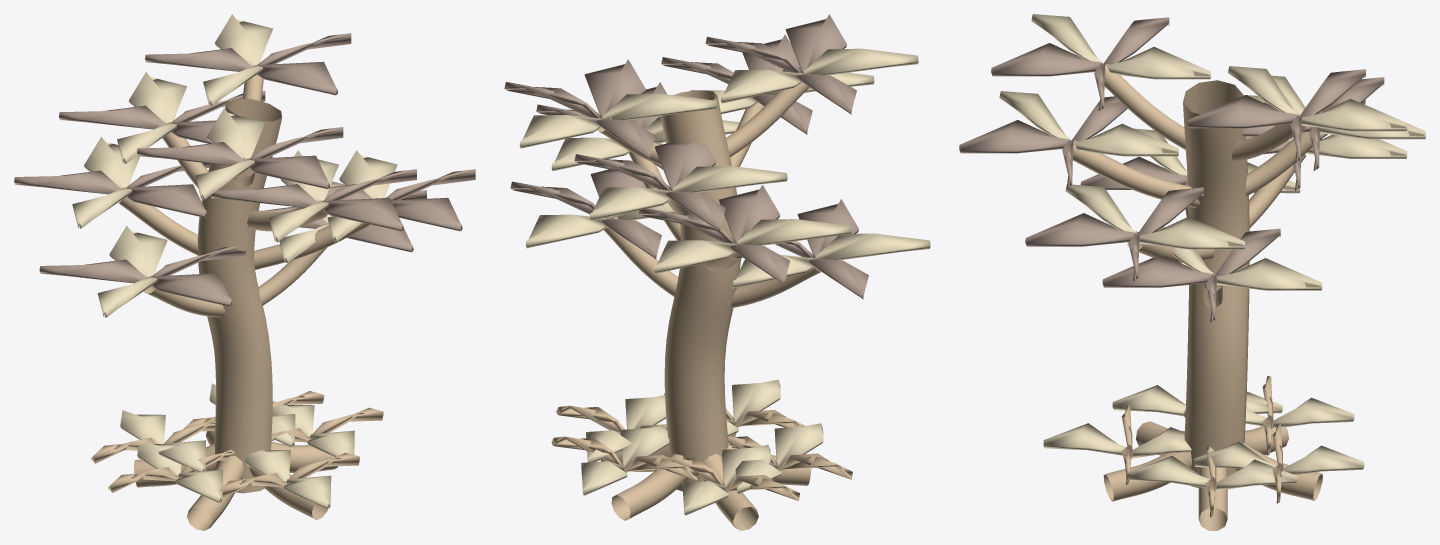
File: bio_canopy_tree_15_near.glb
3 views of the same model, side by side, from view 1: azimuth 30°, elevation 25°; view 2: azimuth 150°, elevation 25°; view 3: azimuth 270°, elevation 25° (orthographic). The views are drawn at different scales.
Visible parts, largest first — view 1: Buttressed trunk, Broad canopy leaf.035, Broad canopy leaf.015, Broad canopy leaf.010, Broad canopy leaf.020, Broad canopy leaf.005, Broad canopy leaf.030, Broad canopy leaf.021, Broad canopy leaf.016, Broad canopy leaf.036, Broad canopy leaf.025, Broad canopy leaf.031 (+15 smaller); view 2: Buttressed trunk, Broad canopy leaf.015, Broad canopy leaf.035, Broad canopy leaf.005, Broad canopy leaf.030, Broad canopy leaf.006, Broad canopy leaf.031, Broad canopy leaf.016, Broad canopy leaf.036, Broad canopy leaf.021, Broad canopy leaf, Broad canopy leaf.020 (+15 smaller); view 3: Buttressed trunk, Broad canopy leaf.035, Broad canopy leaf.015, Broad canopy leaf.025, Broad canopy leaf, Broad canopy leaf.010, Broad canopy leaf.016, Broad canopy leaf.011, Broad canopy leaf.026, Broad canopy leaf.036, Low buttress leaf.001, Broad canopy leaf.001 (+12 smaller).
Boxes of the visible parts, x1=… form: Buttressed trunk: x1=119, y1=75, x2=370, y2=530; Broad canopy leaf.035: x1=137, y1=127, x2=343, y2=189; Broad canopy leaf.015: x1=145, y1=33, x2=351, y2=95; Broad canopy leaf.010: x1=211, y1=169, x2=416, y2=231; Broad canopy leaf.020: x1=39, y1=246, x2=245, y2=306; Broad canopy leaf.005: x1=14, y1=162, x2=210, y2=217; Broad canopy leaf.030: x1=59, y1=90, x2=265, y2=143; Broad canopy leaf.021: x1=97, y1=225, x2=167, y2=317; Broad canopy leaf.016: x1=203, y1=14, x2=272, y2=106; Broad canopy leaf.036: x1=195, y1=108, x2=264, y2=199; Broad canopy leaf.025: x1=325, y1=169, x2=475, y2=231; Broad canopy leaf.031: x1=117, y1=72, x2=186, y2=163; Buttressed trunk: x1=598, y1=71, x2=820, y2=530; Broad canopy leaf.015: x1=504, y1=59, x2=655, y2=159; Broad canopy leaf.035: x1=705, y1=14, x2=856, y2=114; Broad canopy leaf.005: x1=638, y1=185, x2=789, y2=284; Broad canopy leaf.030: x1=574, y1=141, x2=725, y2=232; Broad canopy leaf.006: x1=654, y1=219, x2=851, y2=273; Broad canopy leaf.031: x1=589, y1=166, x2=787, y2=220; Broad canopy leaf.016: x1=519, y1=93, x2=717, y2=148; Broad canopy leaf.036: x1=720, y1=48, x2=918, y2=103; Broad canopy leaf.021: x1=732, y1=233, x2=930, y2=288; Broad canopy leaf: x1=510, y1=169, x2=661, y2=259; Broad canopy leaf.020: x1=775, y1=199, x2=868, y2=299; Buttressed trunk: x1=1073, y1=64, x2=1322, y2=530; Broad canopy leaf.035: x1=991, y1=17, x2=1169, y2=110; Broad canopy leaf.015: x1=1187, y1=69, x2=1365, y2=163; Broad canopy leaf.025: x1=1025, y1=187, x2=1203, y2=281; Broad canopy leaf: x1=1102, y1=228, x2=1280, y2=322; Broad canopy leaf.010: x1=959, y1=96, x2=1127, y2=187; Broad canopy leaf.016: x1=1228, y1=66, x2=1407, y2=131; Broad canopy leaf.011: x1=999, y1=91, x2=1178, y2=156; Broad canopy leaf.026: x1=1065, y1=184, x2=1244, y2=249; Broad canopy leaf.036: x1=1031, y1=14, x2=1210, y2=79; Low buttress leaf.001: x1=1129, y1=455, x2=1297, y2=491; Broad canopy leaf.001: x1=1157, y1=226, x2=1322, y2=290.
Bounding box in the file's own units: 2.97 × 2.99 × 3.05.
